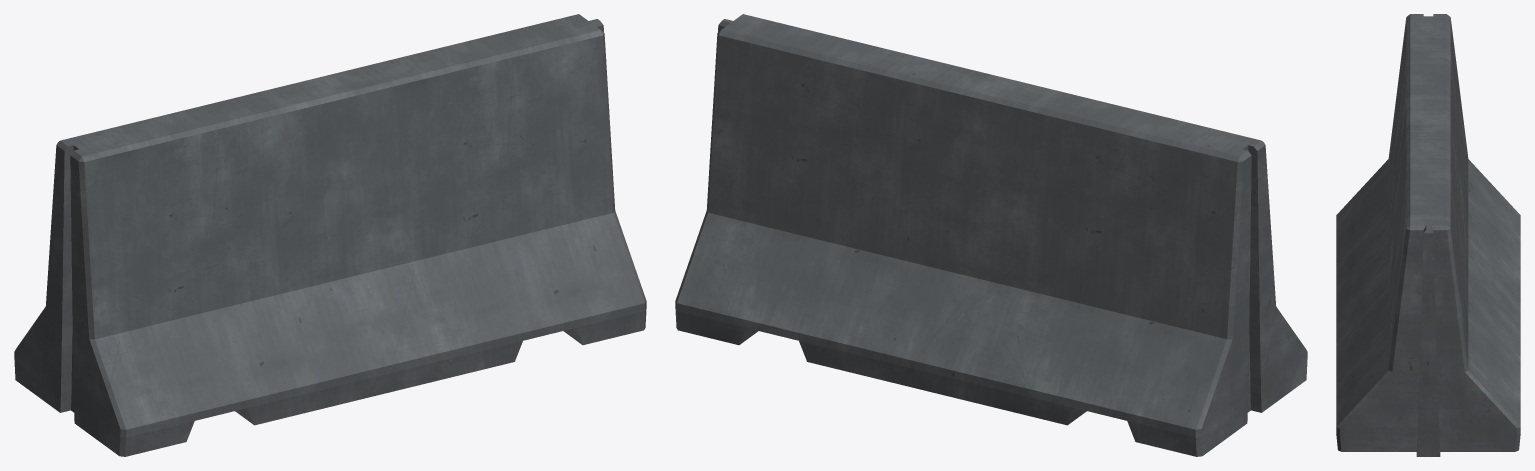
Rendered from barreira.gltf.
3 views of the same model, side by side, from view 1: azimuth 30°, elevation 25°; view 2: azimuth 150°, elevation 25°; view 3: azimuth 270°, elevation 25° (orthographic). The views are drawn at different scales.
Visible parts, largest first — view 1: barreira; view 2: barreira; view 3: barreira.
Part boxes in pixels (x1,y1,x2,y2): barreira: (14,14,646,456); barreira: (675,14,1307,456); barreira: (1336,14,1520,456).
Size of the model in its own units: 1.78 by 0.85 by 0.6323.
1 material, 1 textured.
